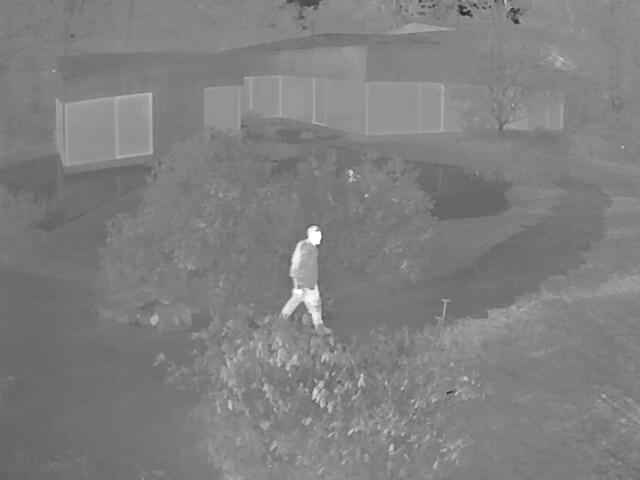person: (279, 225, 329, 336)
